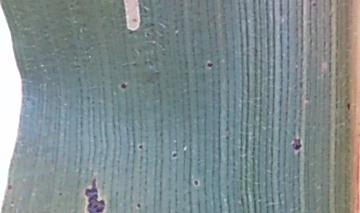tarspot: (80, 175, 108, 213), (289, 134, 305, 154), (343, 100, 354, 114), (119, 79, 130, 92), (190, 175, 201, 188), (205, 59, 214, 72), (170, 150, 180, 161), (134, 201, 143, 210), (6, 183, 14, 192), (137, 143, 146, 151), (57, 191, 65, 199)
